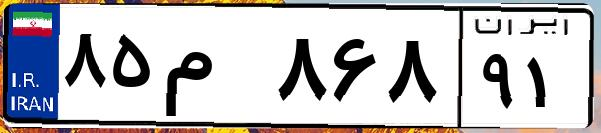1: (525, 38, 570, 115)
5: (110, 28, 158, 98)
6: (330, 28, 385, 110)
8: (270, 28, 330, 110), (385, 28, 445, 110), (57, 26, 110, 100)
9: (475, 38, 525, 113)
م: (158, 20, 270, 120)
